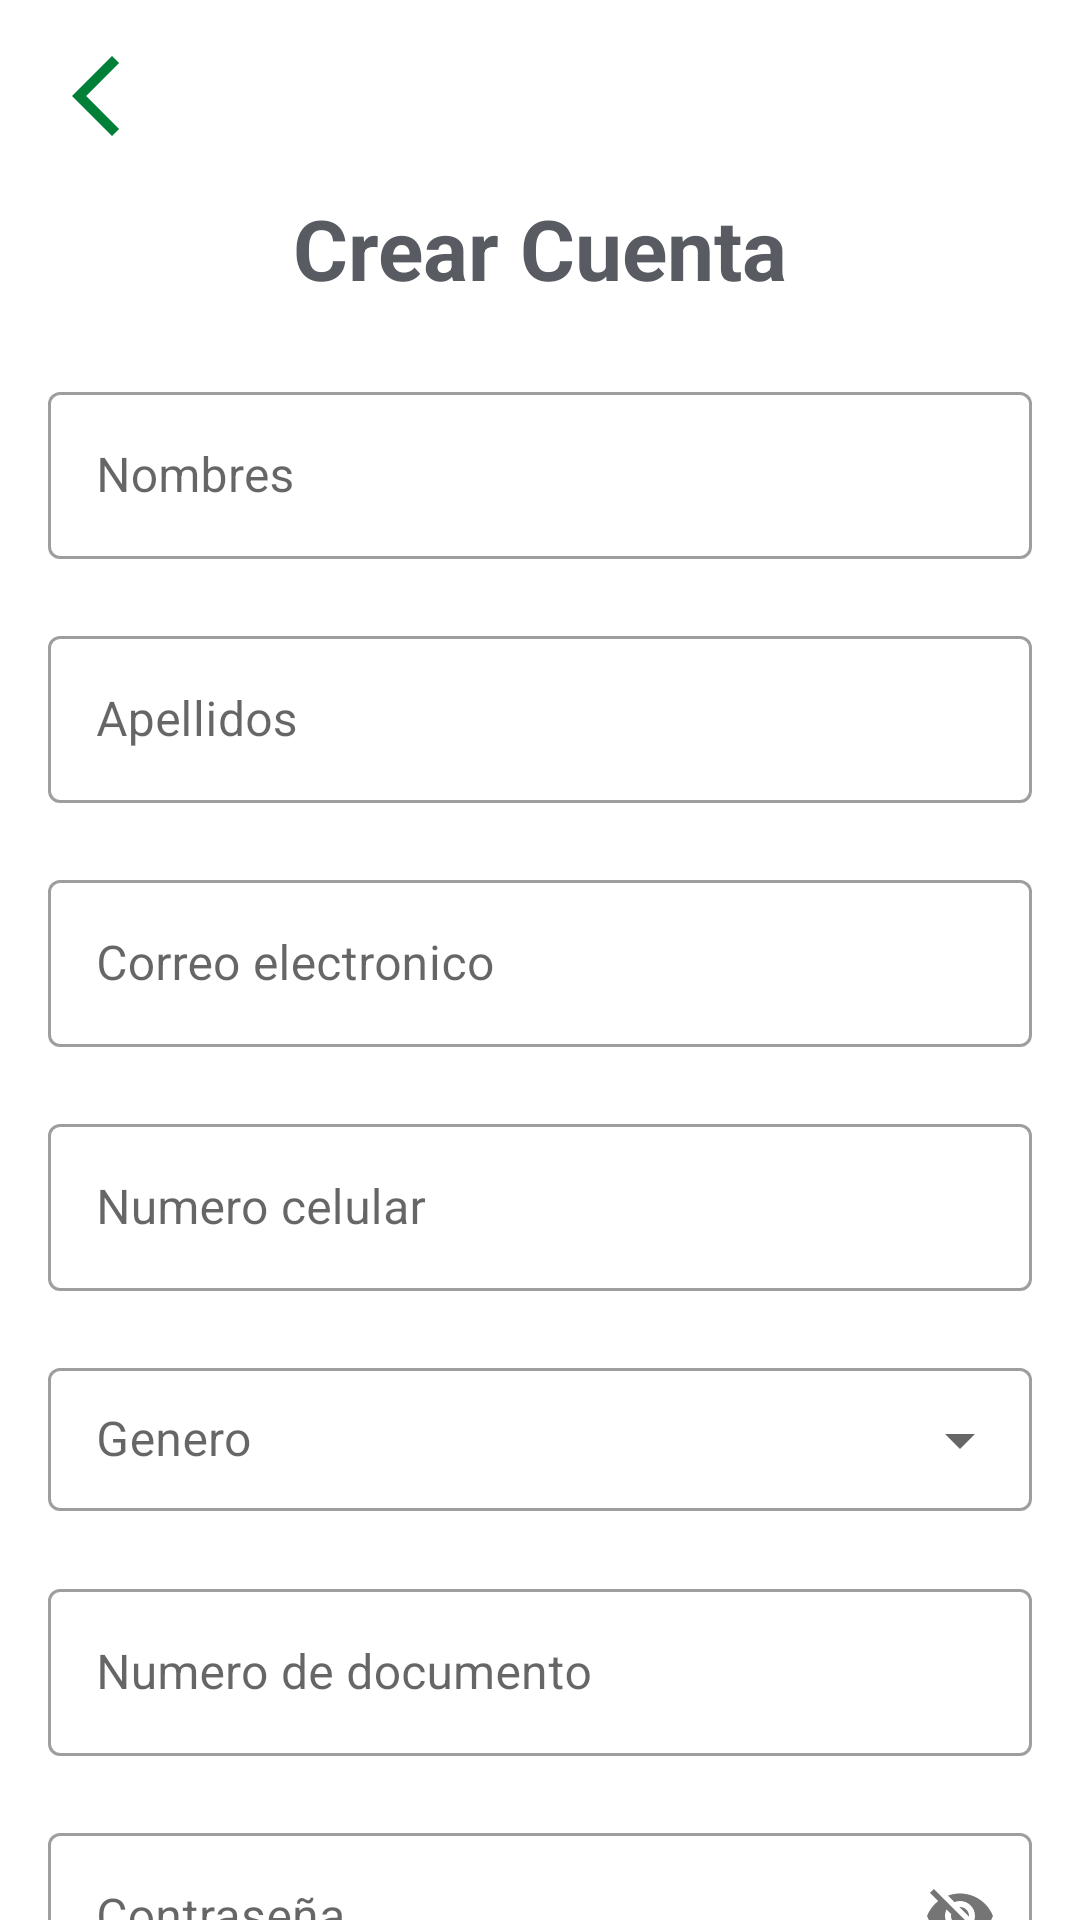

Icon bounding boxes for this 1080px×1920px phone screenshot, format [x1,y1,x2,y2]:
arrow back: [72,56,119,136]
